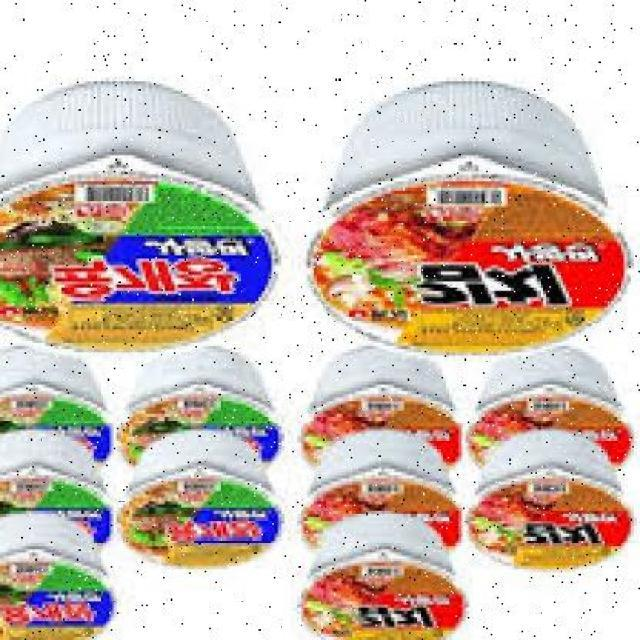Miscellaneous: (306, 88, 640, 352), (0, 80, 282, 360), (456, 347, 636, 478), (470, 454, 639, 588), (288, 434, 478, 551), (303, 344, 468, 473), (119, 348, 287, 474), (115, 457, 292, 575), (297, 531, 485, 640), (0, 346, 129, 472), (0, 436, 120, 550), (0, 537, 109, 640)
